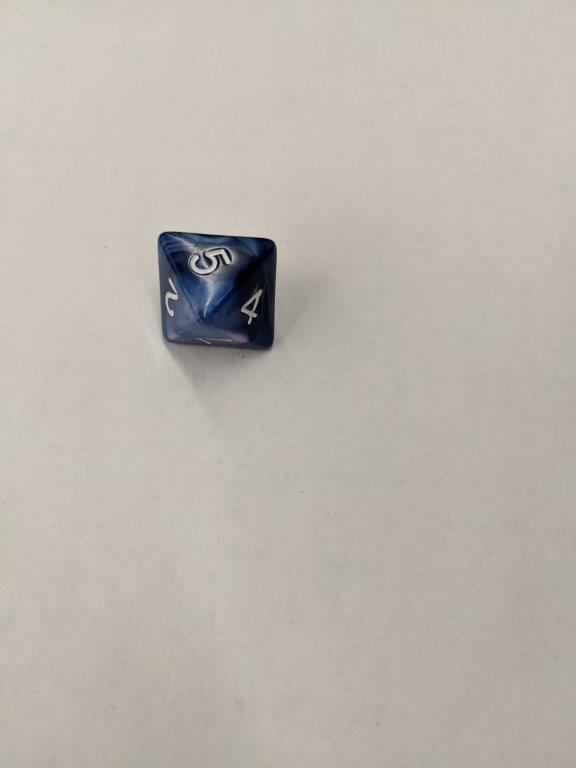d8-5: (155, 227, 280, 358)
